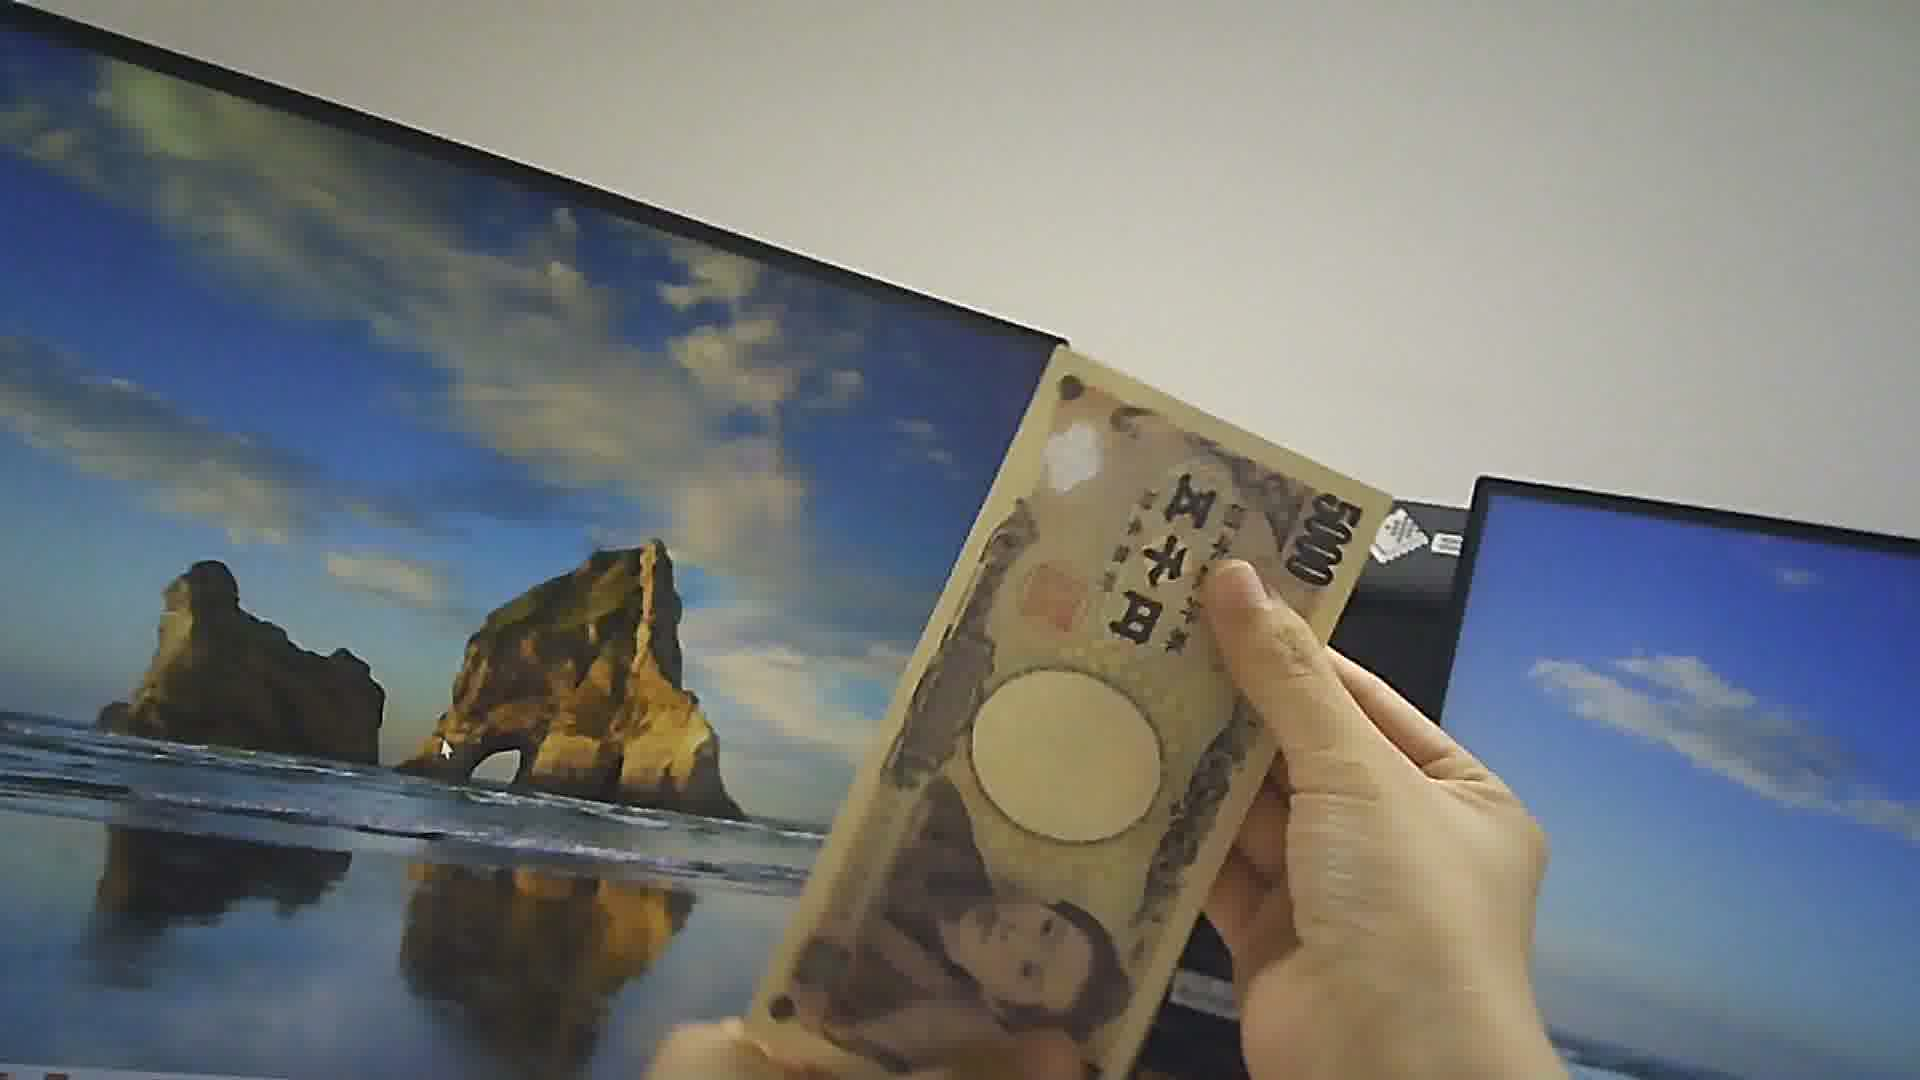5,000 Yen: (777, 309, 1400, 1015)
